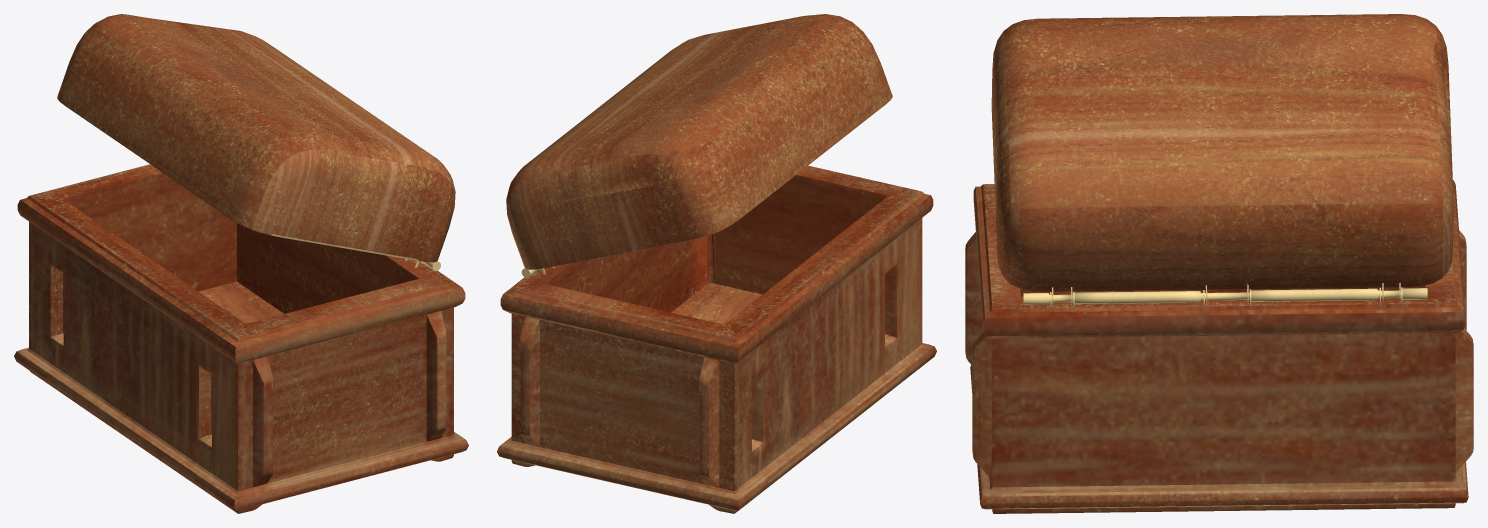
File: Kufer.fbx
3 renders of one model, left to right at view 1: azimuth 30°, elevation 25°; view 2: azimuth 150°, elevation 25°; view 3: azimuth 270°, elevation 25°, orthographic. The views are drawn at different scales.
Visible parts, largest first — view 1: Box262, Box265; view 2: Box262, Box265; view 3: Box265, Box262, Cylinder365.
Boxes of the visible parts, x1,y1,x2,y2 form: Box262: (14, 164, 468, 513); Box265: (57, 14, 455, 262); Box262: (497, 165, 936, 513); Box265: (506, 14, 892, 269); Box265: (991, 14, 1453, 291); Box262: (965, 180, 1473, 513); Cylinder365: (1023, 288, 1427, 304).
Size of the model in its own units: 0.5174 by 0.6721 by 0.7609.
